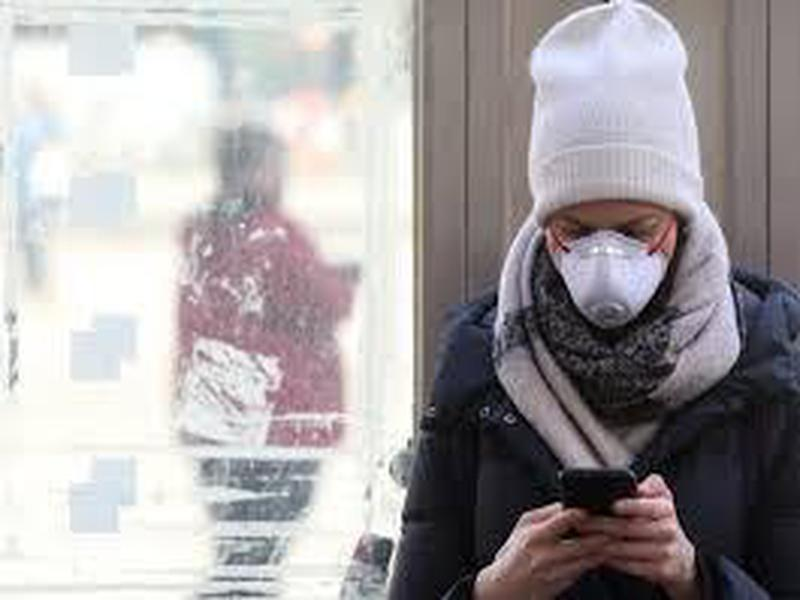with_mask: (545, 201, 678, 330)
